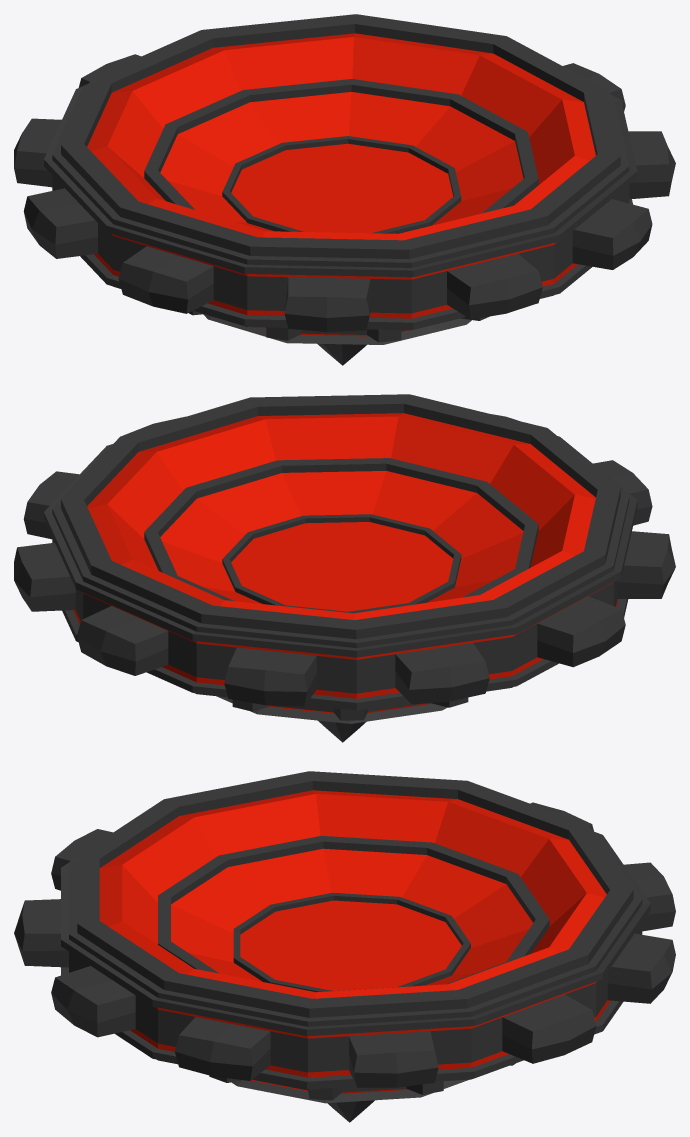
File: Toupie2_Animation_Spin.fbx
The picture shows the model from 3 angles, top to bottom: view 1: azimuth 30°, elevation 25°; view 2: azimuth 150°, elevation 25°; view 3: azimuth 270°, elevation 25°; orthographic projection.
Parts seen in each view (by area): view 1: Cylinder.011; view 2: Cylinder.011; view 3: Cylinder.011.
Part boxes in pixels (left/top/right/bottom): Cylinder.011: left=14, top=14, right=675, bottom=365; Cylinder.011: left=14, top=394, right=675, bottom=742; Cylinder.011: left=14, top=771, right=675, bottom=1122.
Bounding box in the file's own units: 735 × 284 × 732.
